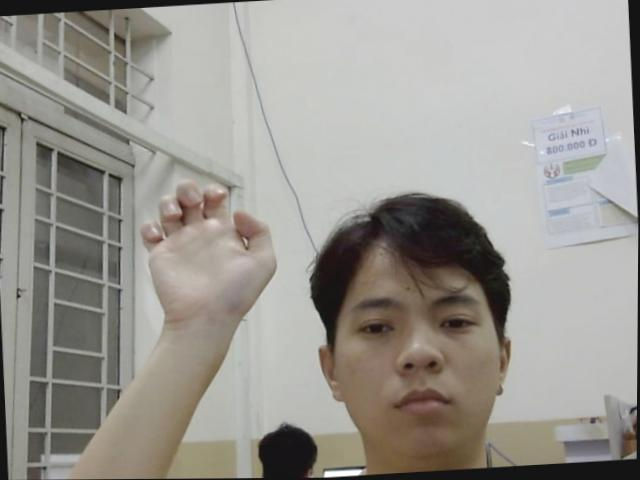E: (136, 172, 280, 314)
